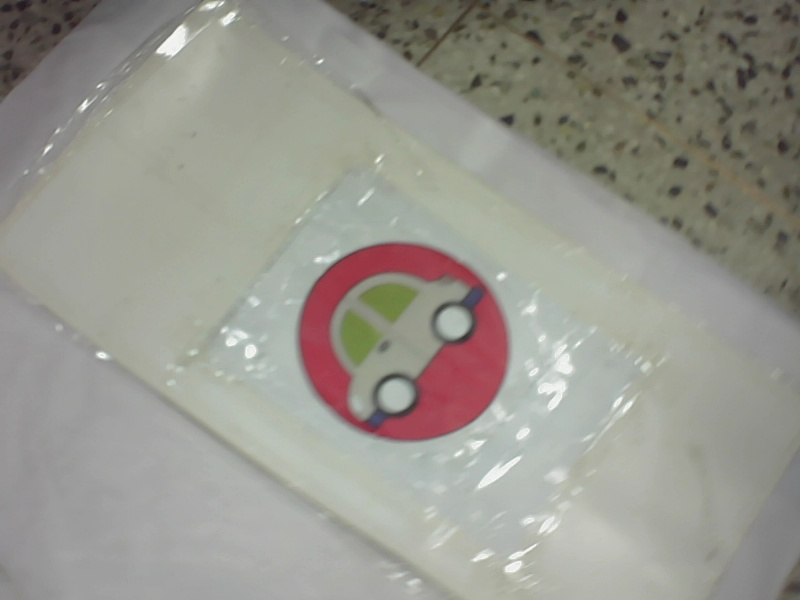areaC: (295, 238, 518, 450)
